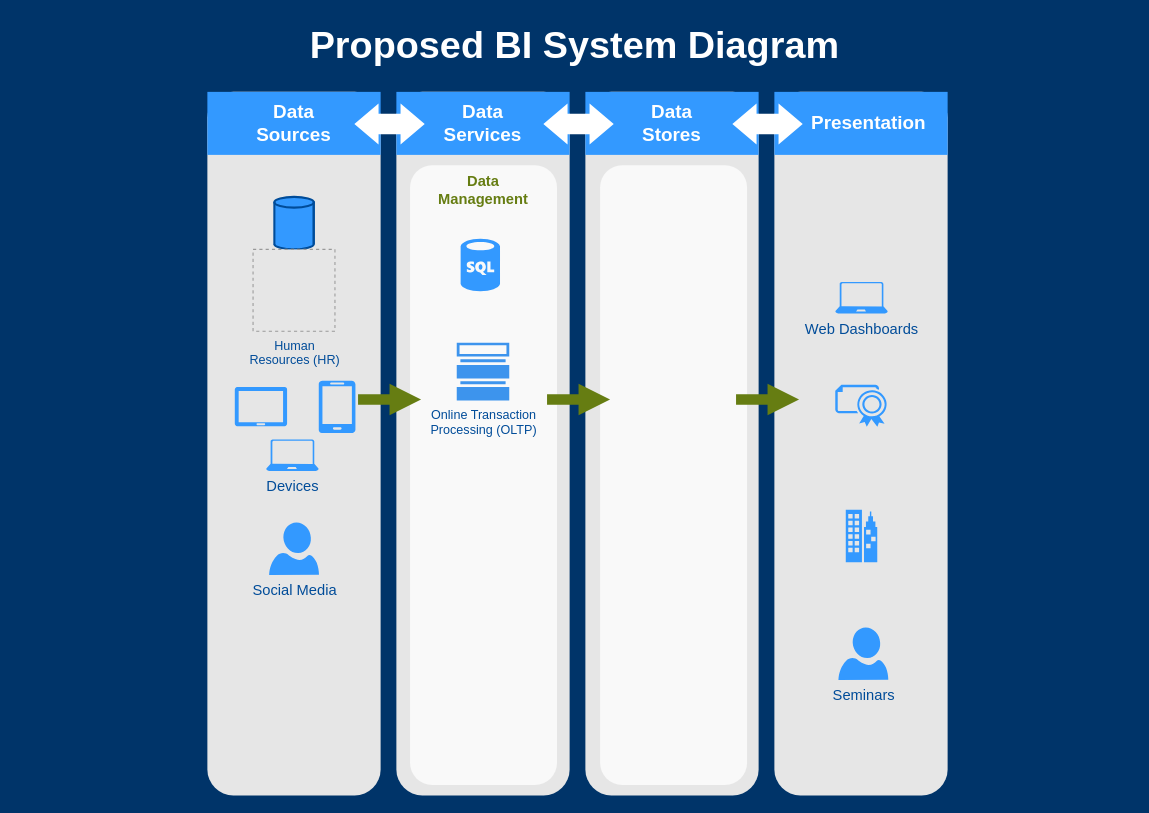
Image size: 1149x813. Some labels were removed from this diagram. Grey dashed boxes stand in for pictures. Here are the shapes that lost their labels. From the top down, the centre of each, then its label:
the point at 293,222: ERP
the point at 479,264: SQL Database
the point at 861,405: Certificates
the point at 673,474: Data Warehouse
the point at 861,535: Enterprise Services
